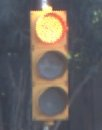Red: (24, 7, 76, 123)
